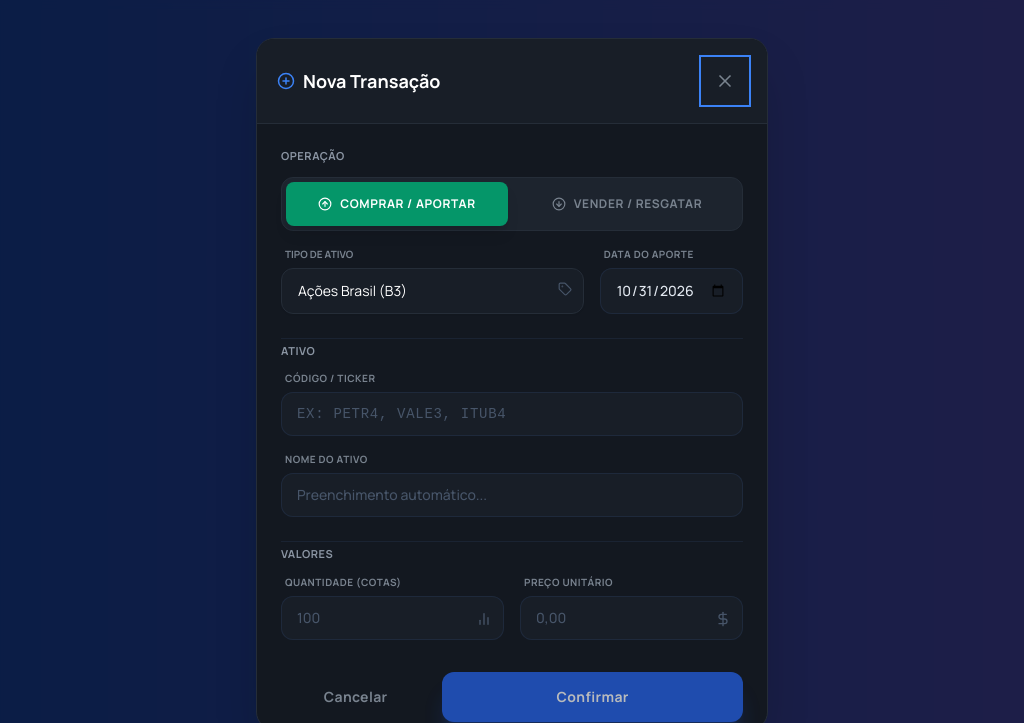
Test: modo CASH › exige nome ao tentar criar novo cofrinho sem preencher o campo
Select "Reserva / Caixa" in the dropdown showing "Ações Brasil (B3)" at (432, 291), box [281, 268, 584, 314]
(page scrolled)
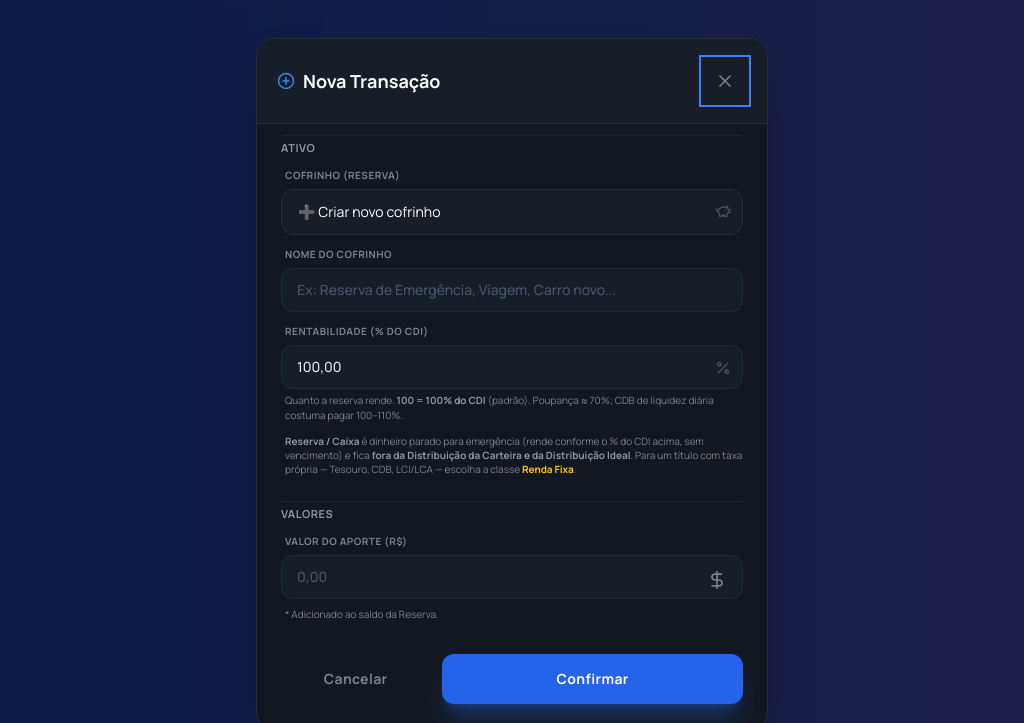
Type "50000" into the field labelled "Valor do Aporte (R$)" at (512, 577), box [281, 555, 743, 599]
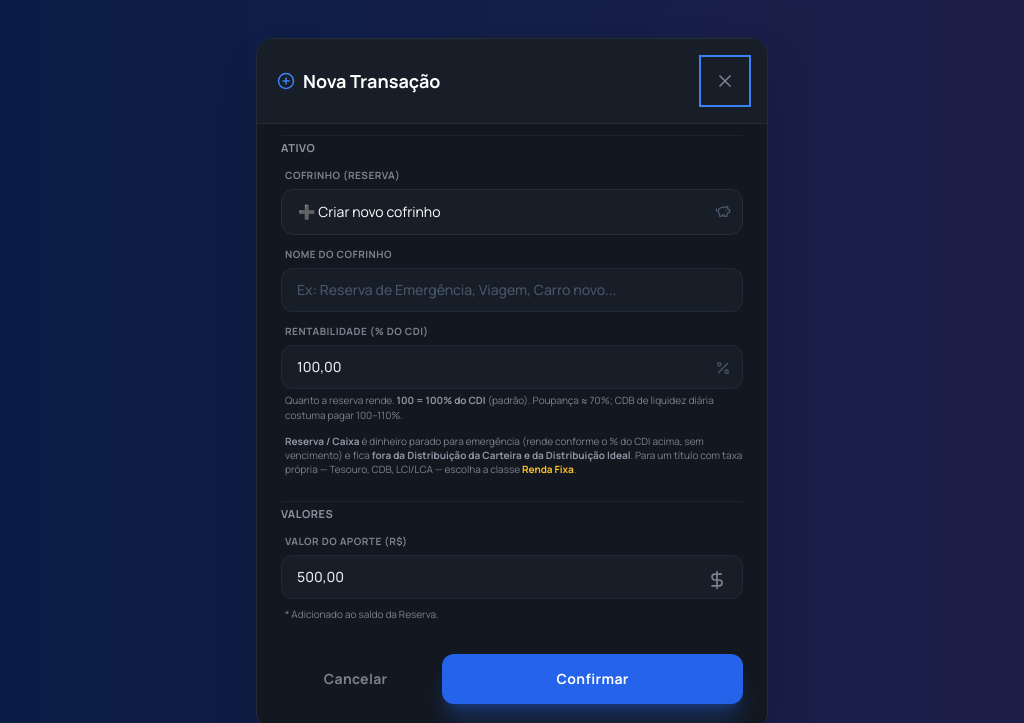
Click the button "Confirmar" at (593, 679), box [442, 654, 743, 704]
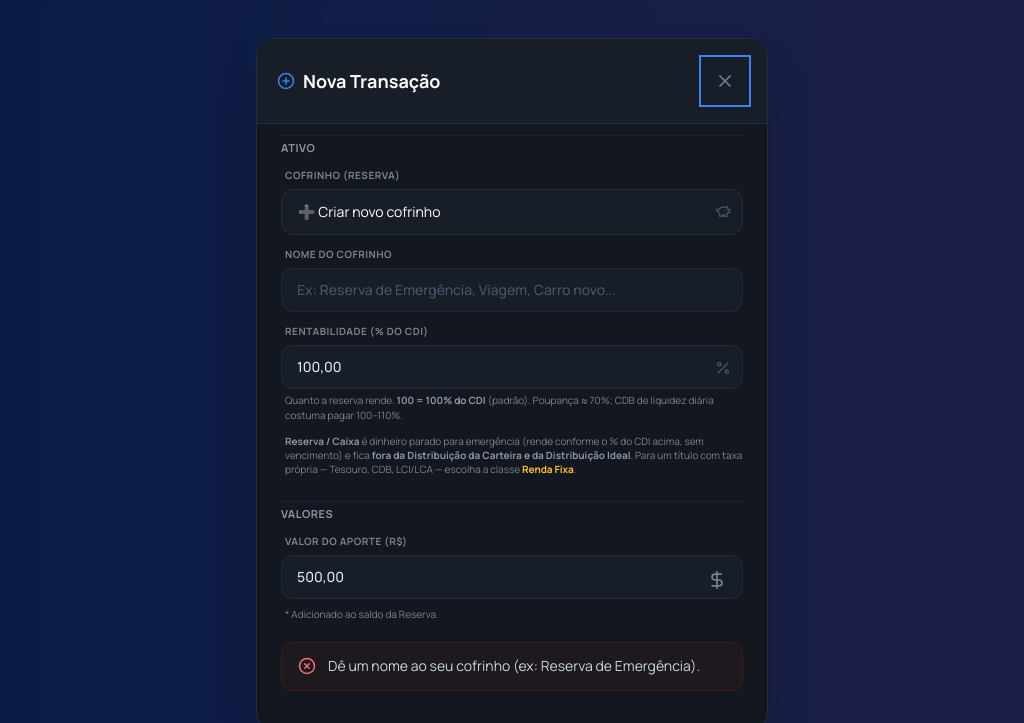
Now the message shows "nome", box [328, 656, 700, 675]
